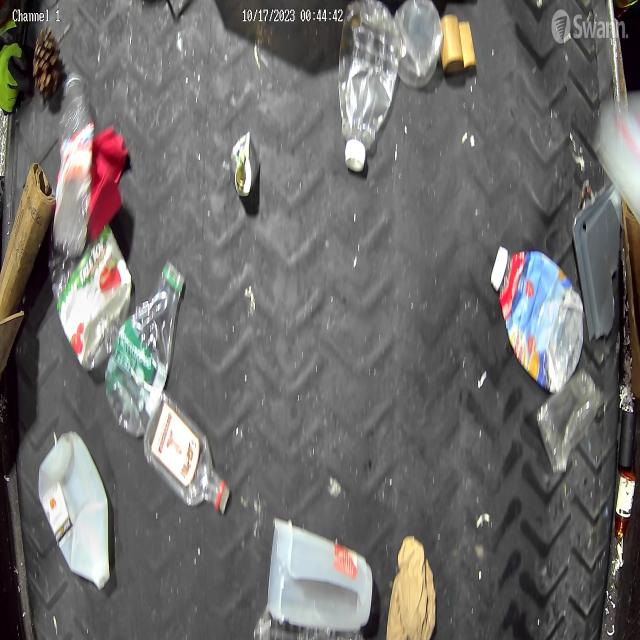can: (231, 128, 259, 202)
milk_jug: (36, 430, 112, 592)
plastic_bottle: (109, 255, 188, 438), (338, 2, 401, 178), (54, 229, 132, 369), (147, 396, 231, 511), (53, 67, 95, 253)
